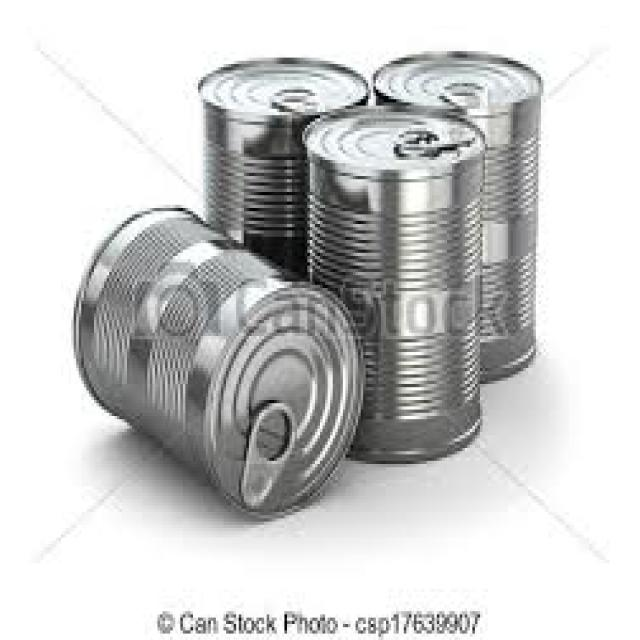metal: (69, 205, 363, 518), (297, 99, 483, 464), (369, 48, 534, 378), (196, 58, 368, 279)
